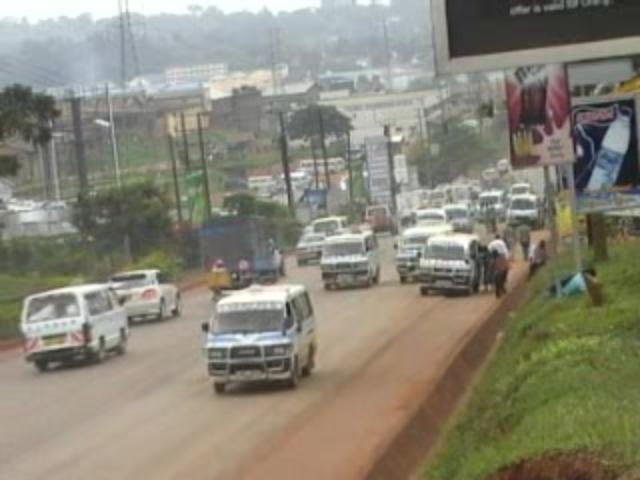car: (107, 269, 181, 324), (296, 231, 326, 265)
motorcycle: (528, 238, 548, 279), (209, 259, 230, 297), (517, 224, 531, 257)
van: (202, 281, 316, 390), (17, 282, 128, 370), (199, 215, 282, 288), (416, 233, 471, 298), (318, 230, 377, 289), (396, 224, 452, 283), (505, 192, 543, 230), (477, 189, 506, 226), (364, 204, 395, 234), (441, 202, 470, 233)
